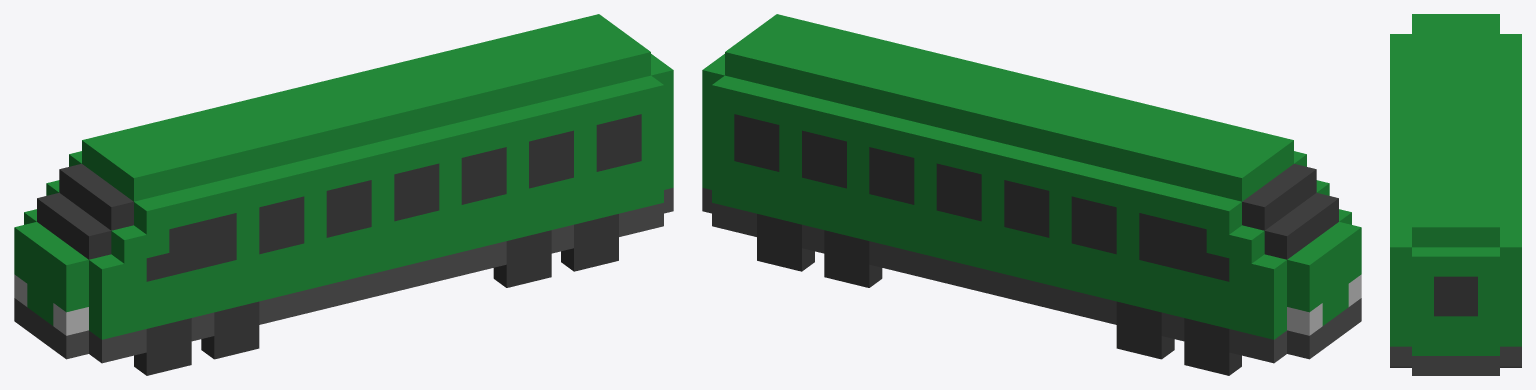
The model's file is train-v2-green.gltf.
3 renders of one model, left to right at view 1: azimuth 30°, elevation 25°; view 2: azimuth 150°, elevation 25°; view 3: azimuth 270°, elevation 25°, orthographic. The views are drawn at different scales.
Parts seen in each view (by area): view 1: model, wheels; view 2: model, wheels; view 3: model.
Part boxes in pixels (left/top/right/bottom): model: left=14, top=14, right=673, bottom=363; wheels: left=134, top=214, right=618, bottom=375; model: left=702, top=14, right=1361, bottom=363; wheels: left=757, top=214, right=1241, bottom=375; model: left=1390, top=14, right=1521, bottom=375.
Bounding box in the file's own units: 2.7 × 0.8 × 0.6.
Materials: 2 (2 with a texture image).
